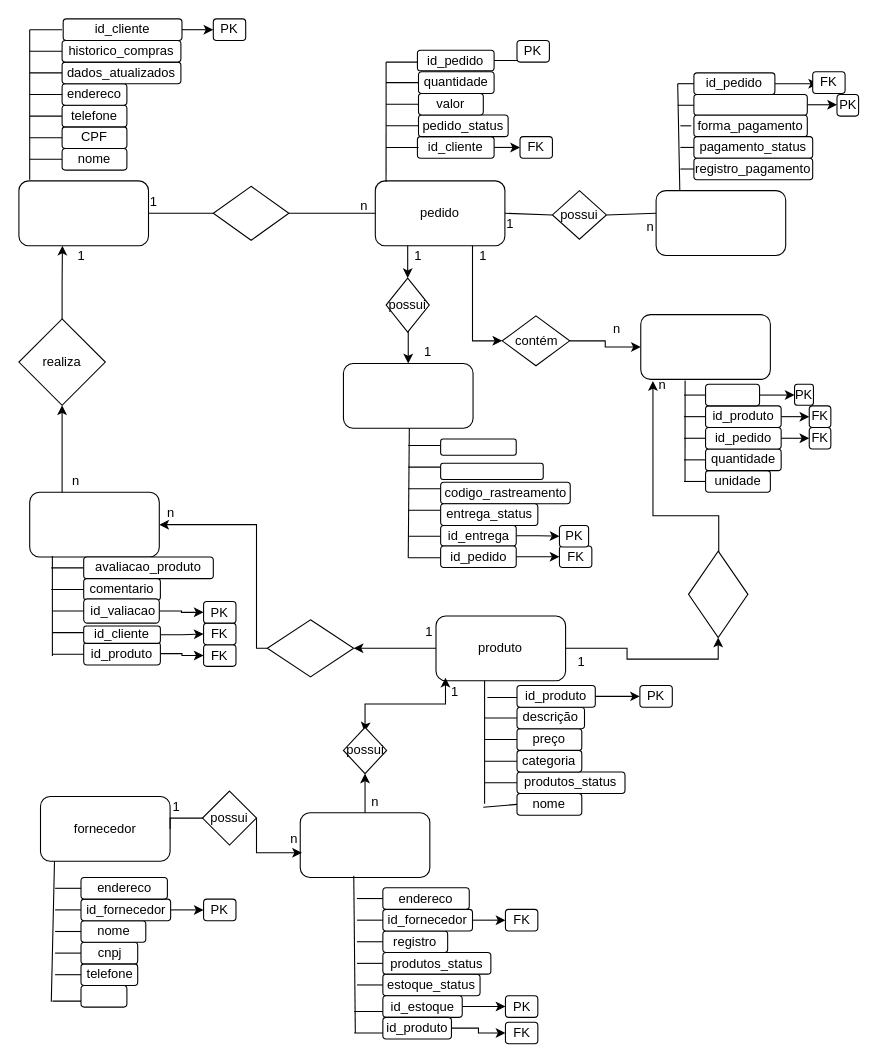
The diagram is 878 pixels wide and 1063 high, and some of its shapes have lost their labels. Each missing label, with the centre of its shape:
avaliações: pixel 94 524
clientes: pixel 83 213
compõe: pixel 717 594
email: pixel 103 995
endereso: pixel 478 446
entrega: pixel 407 395
estoque: pixel 364 845
FAZ: pixel 250 212
id_item: pixel 732 394
id_pagamento: pixel 750 104
item_pedido: pixel 705 346
pagamento: pixel 720 222
recebe: pixel 310 648
transportadora: pixel 491 471
